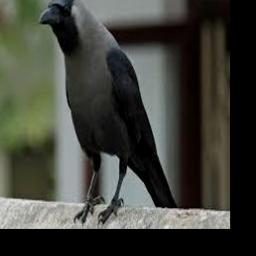Crow: (39, 0, 179, 226)
